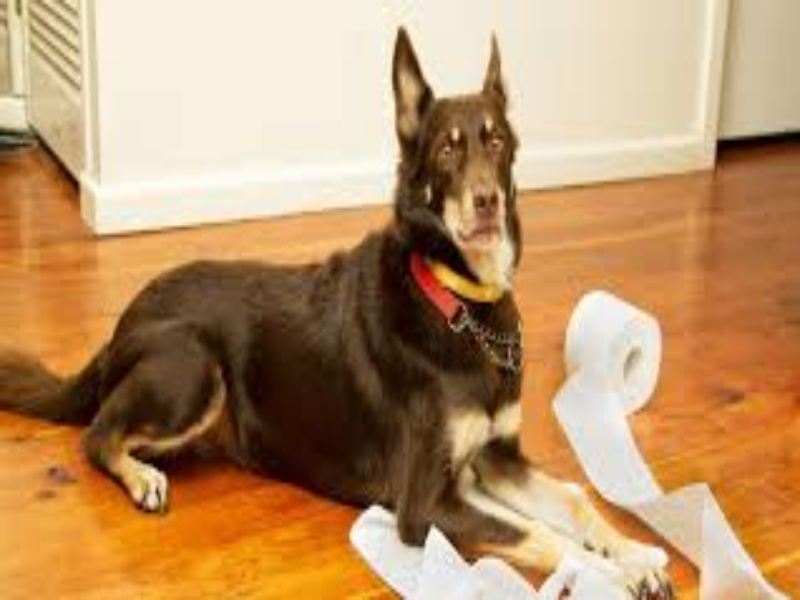dog: (40, 26, 684, 600)
